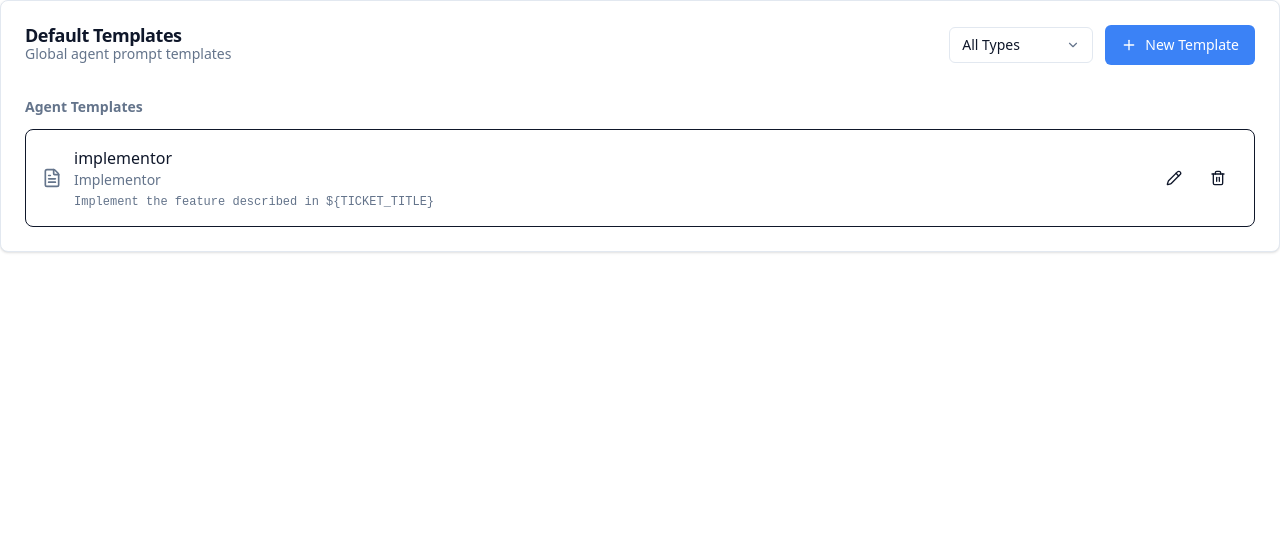
Test: DefaultTemplateForm — type field › edit mode shows type as disabled input
The image size is (1280, 560).
Expected: the text "implementor" is shown, [74, 146, 172, 170]
Step 1. Click the 3rd button → x=1174, y=178, box [1154, 158, 1194, 198]
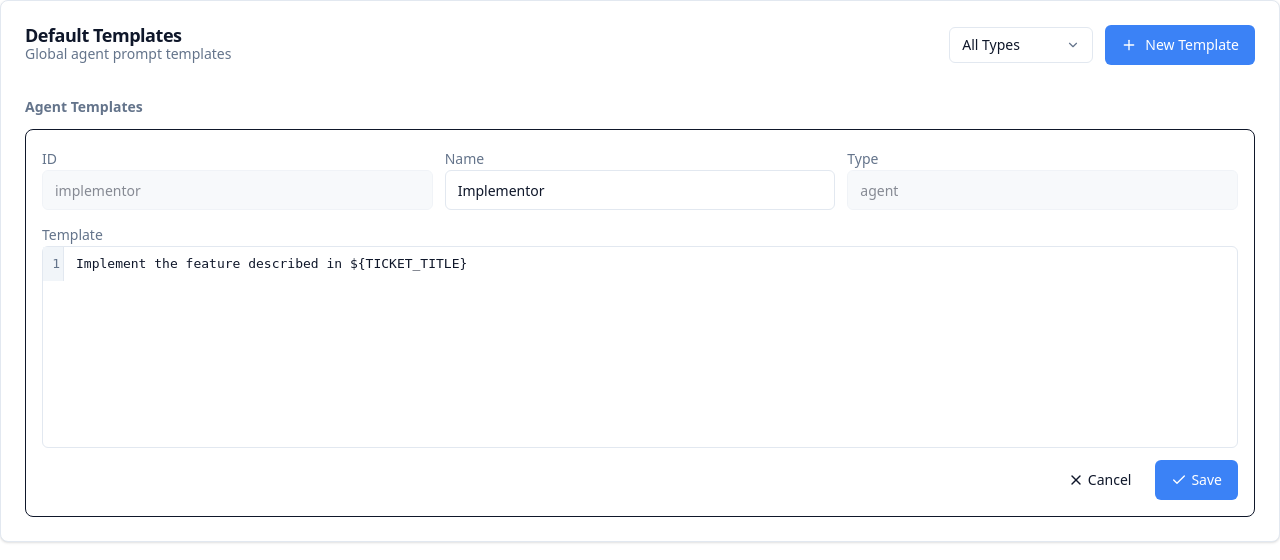
Result: the 3rd field showing "agent" is disabled at [847, 170, 1238, 210]
